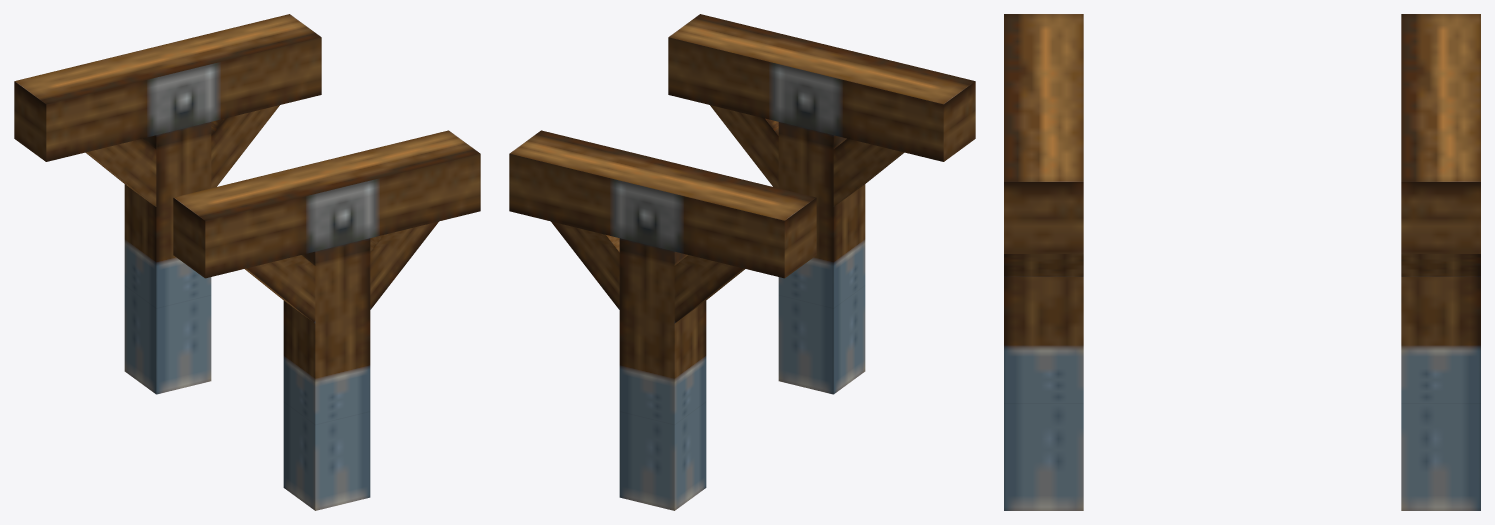
File: Poly_Bridge_Spar_01_Center.obj
3 views of the same model, side by side, from view 1: azimuth 30°, elevation 25°; view 2: azimuth 150°, elevation 25°; view 3: azimuth 270°, elevation 25° (orthographic). The views are drawn at different scales.
Parts seen in each view (by area): view 1: Cube, Cube.001; view 2: Cube, Cube.001; view 3: Cube, Cube.001.
Boxes of the visible parts, left/top/right/bottom form: Cube: left=14, top=14, right=480, bottom=510; Cube.001: left=85, top=105, right=438, bottom=323; Cube: left=509, top=14, right=975, bottom=510; Cube.001: left=551, top=105, right=904, bottom=323; Cube: left=1004, top=14, right=1480, bottom=510; Cube.001: left=1004, top=254, right=1480, bottom=276.
Bounding box in the file's own units: 1 × 1.1 × 1.2.
Materials: 1 (1 with a texture image).
